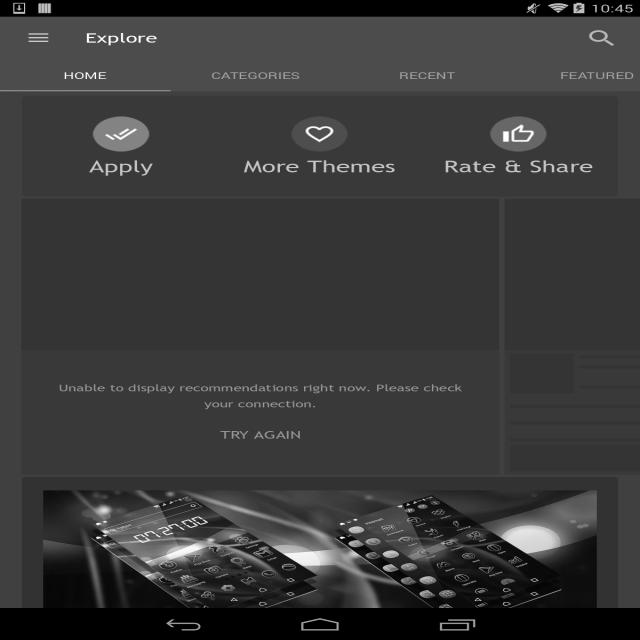ImageButton: (9, 17, 68, 59), (290, 116, 349, 152), (489, 116, 548, 152), (92, 116, 150, 152)
ImageView: (43, 490, 597, 637)
TextView: (22, 369, 500, 428), (22, 428, 500, 455), (244, 156, 396, 177), (444, 156, 594, 177), (572, 22, 631, 54), (89, 156, 153, 177), (86, 29, 158, 46), (211, 69, 300, 82), (560, 69, 634, 82), (398, 69, 455, 82), (64, 69, 106, 82)
